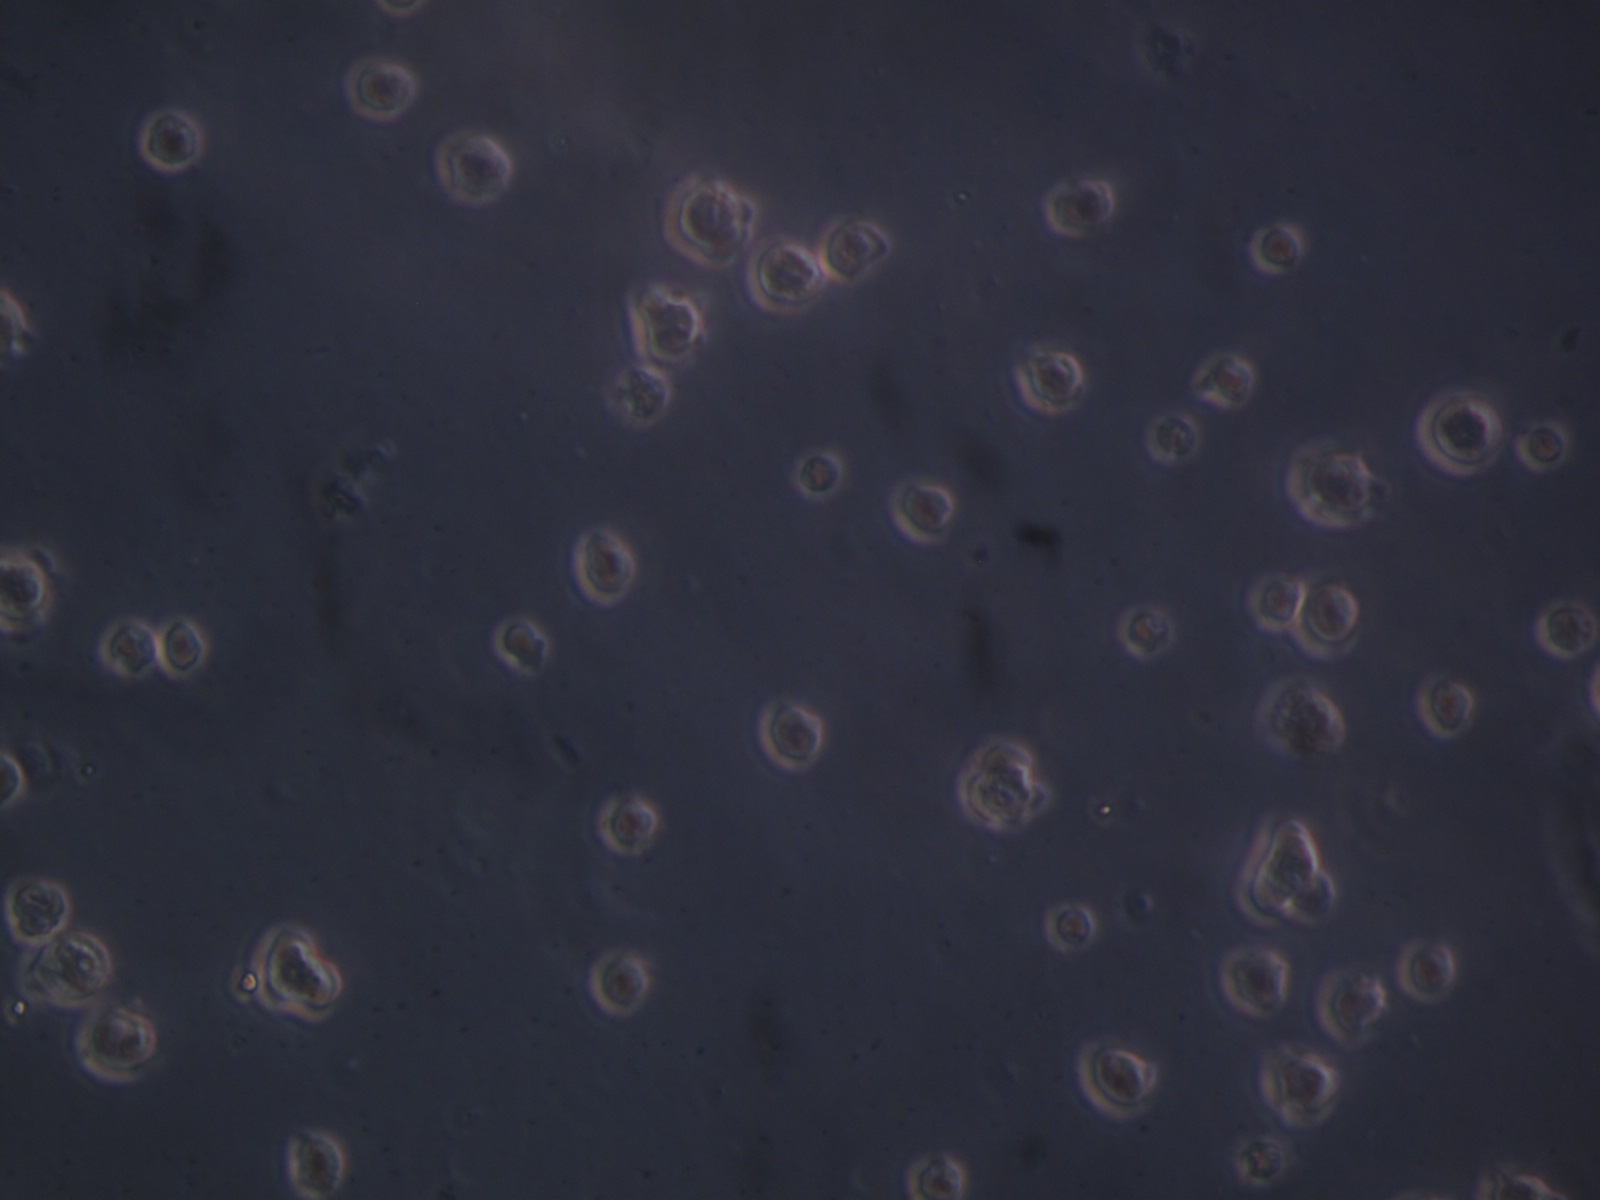hemo: (660, 174, 747, 268), (254, 925, 339, 1022), (1286, 437, 1368, 528), (1416, 391, 1495, 480), (76, 1005, 160, 1087), (1256, 1044, 1337, 1129), (1260, 678, 1344, 758), (1313, 966, 1387, 1050), (1078, 1040, 1155, 1121), (1293, 574, 1361, 661), (745, 239, 821, 315), (435, 130, 510, 204), (631, 287, 703, 366), (1014, 350, 1083, 418), (573, 527, 634, 604), (1221, 949, 1288, 1018), (758, 701, 824, 771), (819, 221, 889, 286), (609, 362, 671, 434), (341, 58, 413, 121), (891, 478, 952, 550), (4, 877, 72, 939), (140, 108, 203, 174), (1414, 676, 1474, 741), (289, 1131, 345, 1200), (96, 616, 157, 679), (592, 950, 648, 1018), (1398, 939, 1455, 1005), (1, 555, 48, 632), (1047, 182, 1112, 236), (1194, 354, 1255, 411), (493, 616, 551, 674), (602, 797, 656, 856), (1249, 575, 1303, 633), (1249, 223, 1305, 277), (905, 1151, 966, 1200), (1536, 603, 1587, 661), (1516, 418, 1570, 473), (1117, 606, 1175, 657), (161, 616, 208, 678), (791, 447, 845, 500), (1042, 901, 1097, 950), (1146, 413, 1202, 463), (374, 1, 425, 16)
